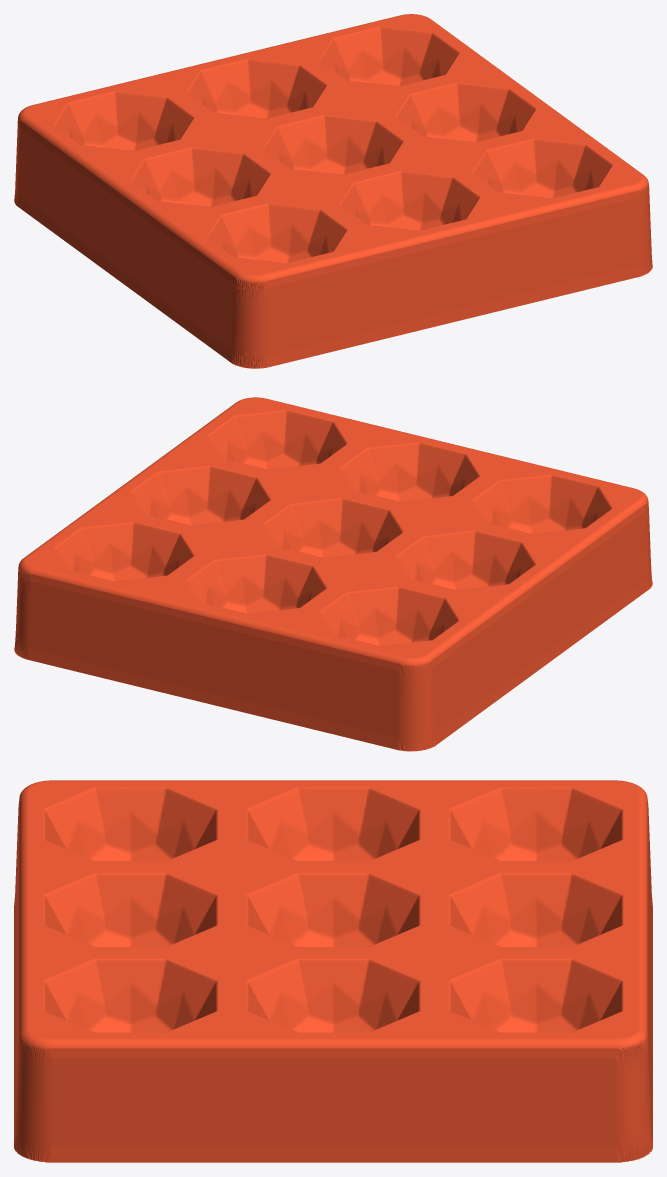
Rendered from mold.glb.
3 views of the same model, one above another, from view 1: azimuth 30°, elevation 25°; view 2: azimuth 150°, elevation 25°; view 3: azimuth 270°, elevation 25° (orthographic). The views are drawn at different scales.
Parts seen in each view (by area): view 1: geometry_0; view 2: geometry_0; view 3: geometry_0.
Boxes of the visible parts, x1,y1,x2,y2 form: geometry_0: (14, 14, 652, 368); geometry_0: (14, 397, 652, 751); geometry_0: (14, 780, 652, 1162).
Size of the model in its own units: 0.1523 by 0.0309 by 0.1523.
